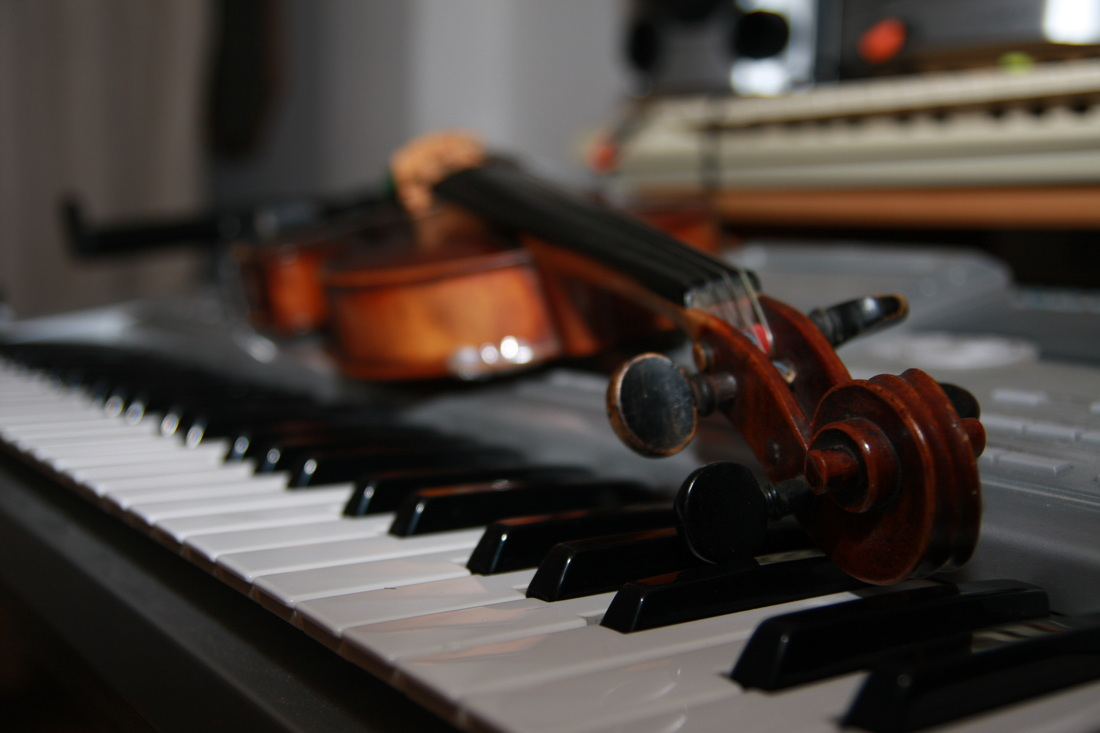Piano: (3, 272, 1100, 733)
Violin: (164, 109, 1043, 601)
